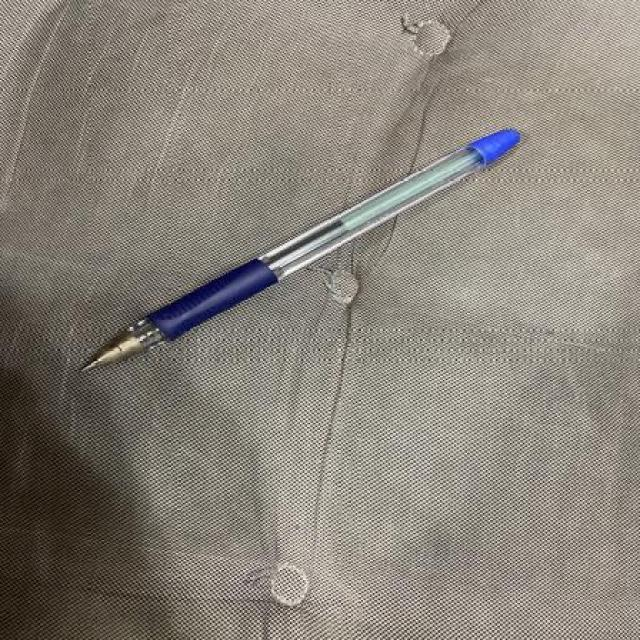pen: (83, 127, 521, 373)
